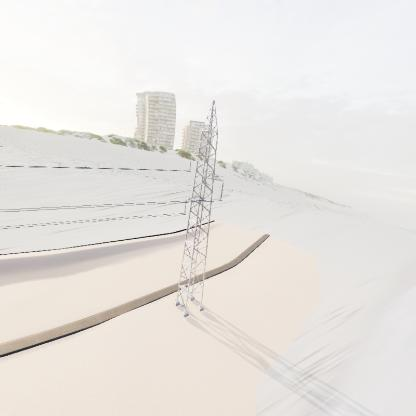tower: (170, 100, 228, 329)
